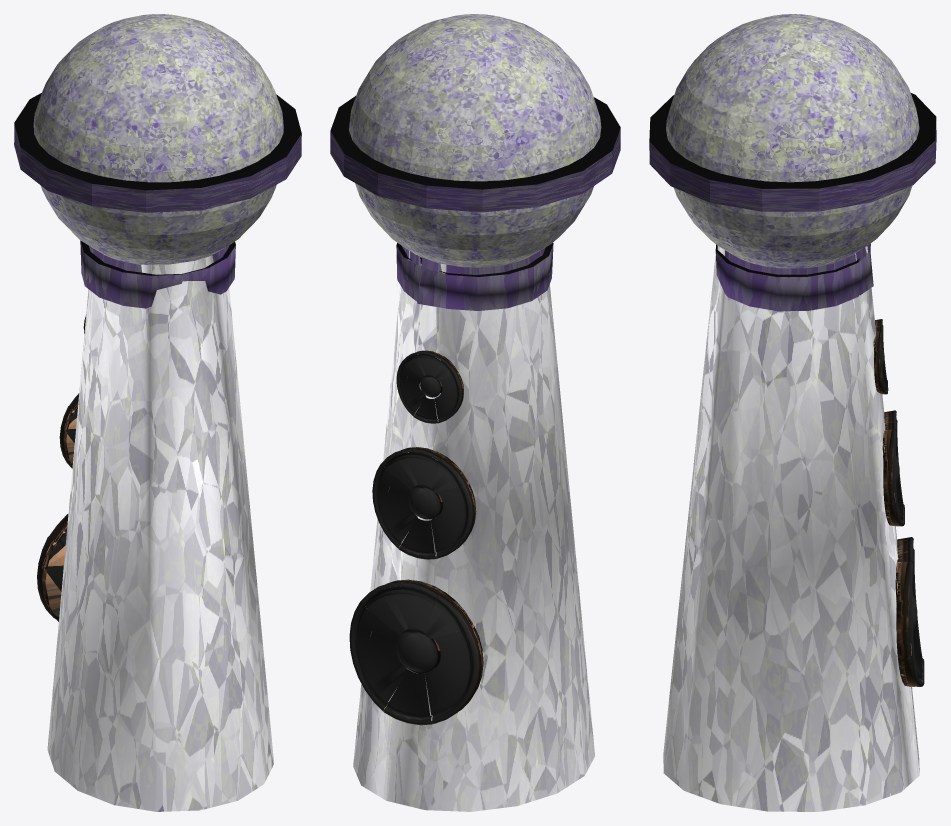
File: EnceinteMicro.glb
3 renders of one model, left to right at view 1: azimuth 30°, elevation 25°; view 2: azimuth 150°, elevation 25°; view 3: azimuth 270°, elevation 25°, orthographic.
Parts seen in each view (by area): view 1: Micro, Mesh_0, Mesh_0.001; view 2: Micro, Mesh_0, Mesh_0.001, Mesh_0.002; view 3: Micro, Mesh_0, Mesh_0.001, Mesh_0.002.
Boxes of the visible parts, <box> form: Micro: <box>14,14,301,811</box>; Mesh_0: <box>37,513,68,621</box>; Mesh_0.001: <box>59,393,79,468</box>; Micro: <box>330,14,620,811</box>; Mesh_0: <box>349,579,483,725</box>; Mesh_0.001: <box>372,447,476,559</box>; Mesh_0.002: <box>396,350,463,423</box>; Micro: <box>649,14,936,811</box>; Mesh_0: <box>895,537,924,686</box>; Mesh_0.001: <box>882,410,904,526</box>; Mesh_0.002: <box>873,319,888,394</box>.
Size of the model in its own units: 1.38 by 3.94 by 1.38.
4 materials, 4 textured.
